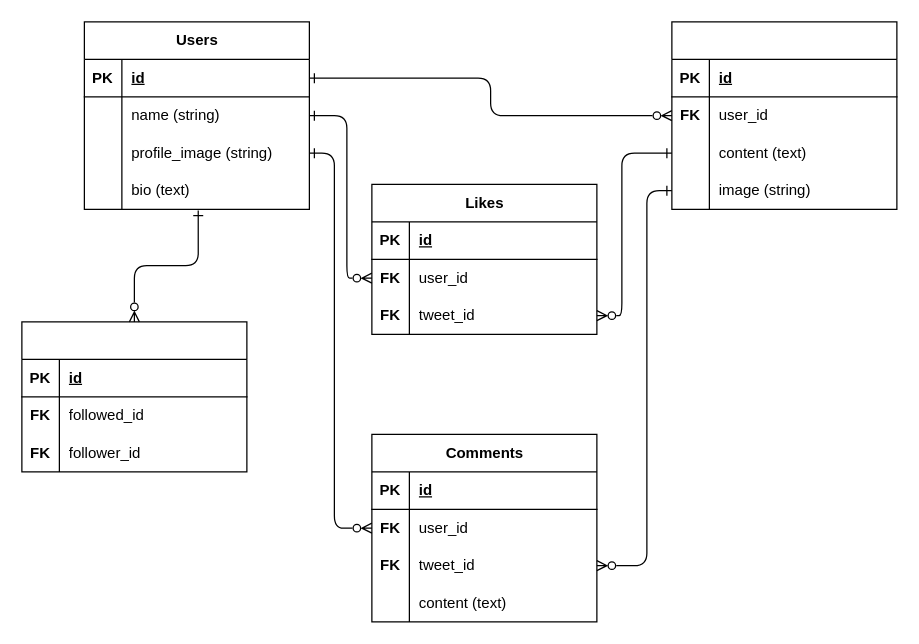
This 919x644 diagram has some shape labels left out. The shapes that lost their labels are listed below. From the top down, each one's box as (x1, y1, x2, y2) in pixels, then its label:
(671, 21, 897, 209): Tweets
(21, 321, 247, 472): Follows
